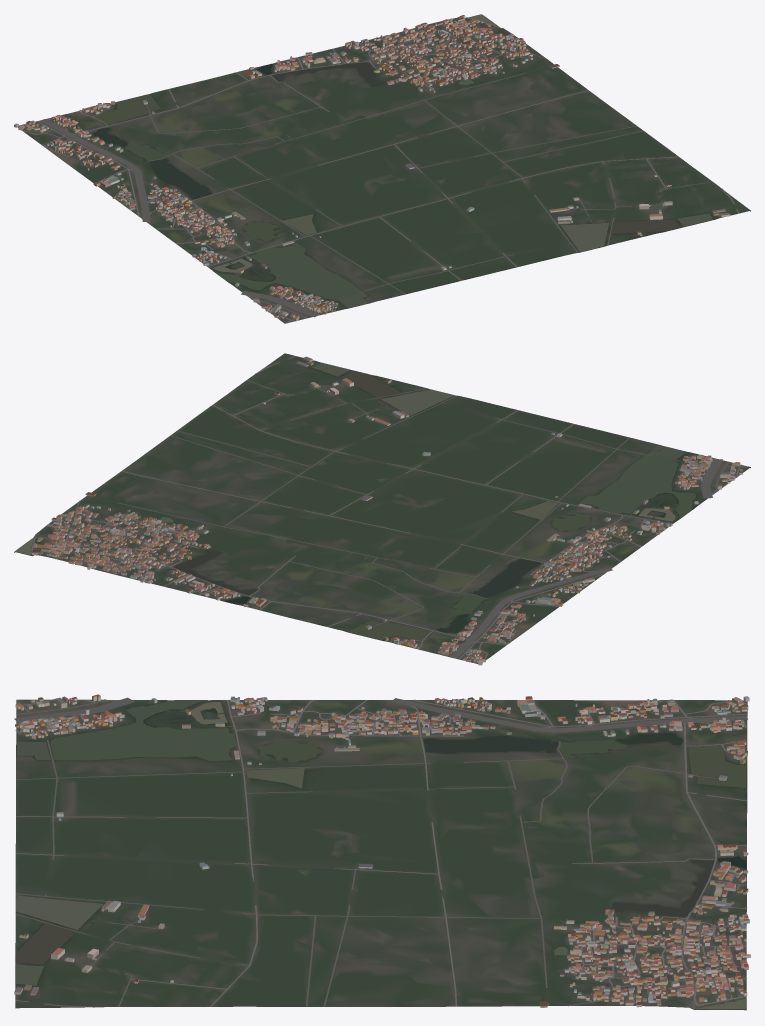
3 renders of one model, top to bottom at view 1: azimuth 30°, elevation 25°; view 2: azimuth 150°, elevation 25°; view 3: azimuth 270°, elevation 25°, orthographic. The views are drawn at different scales.
Parts seen in each view (by area): view 1: ground, buildings, water, roads; view 2: ground, buildings, water, roads; view 3: ground, buildings, water, roads.
Part boxes in pixels (box(x1,y1,x2,y2)): ground: box(17, 16, 750, 323); buildings: box(14, 15, 730, 321); water: box(93, 14, 712, 307); roads: box(23, 16, 739, 323); ground: box(14, 353, 750, 663); buildings: box(32, 356, 742, 665); water: box(15, 362, 696, 640); roads: box(31, 356, 749, 662); ground: box(15, 699, 747, 1010); buildings: box(14, 694, 750, 1007); water: box(16, 700, 746, 1009); roads: box(14, 697, 747, 1007).
Size of the model in its own units: 1415 by 21.32 by 1413.
